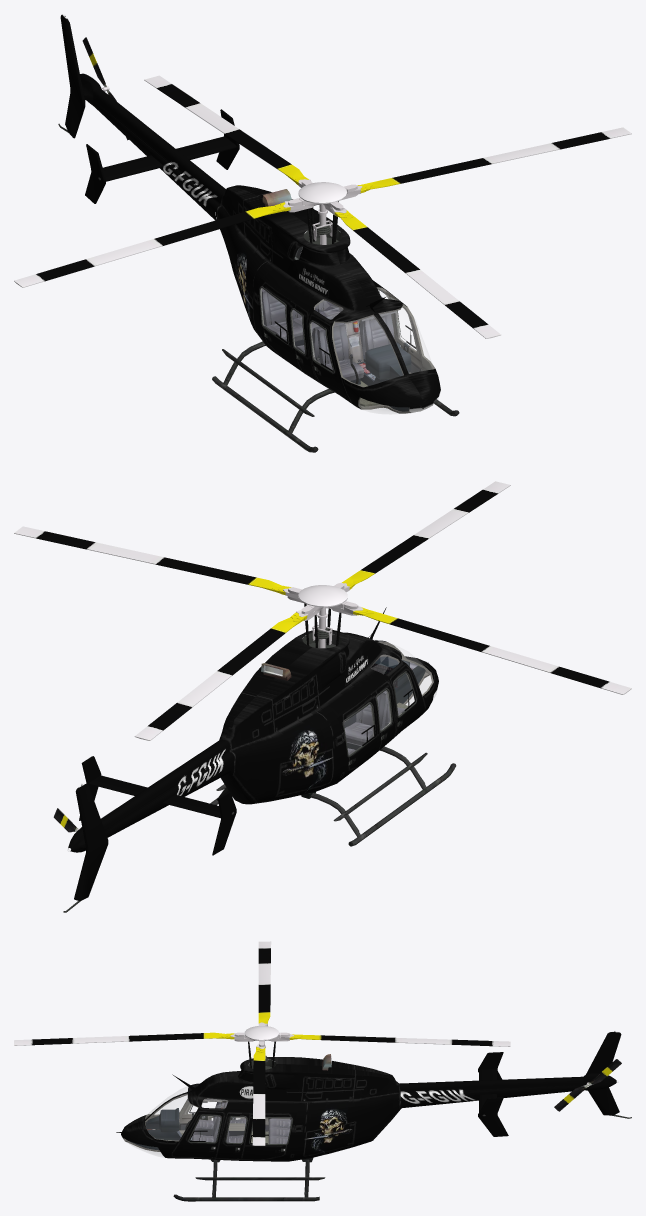
3 renders of one model, top to bottom at view 1: azimuth 30°, elevation 25°; view 2: azimuth 150°, elevation 25°; view 3: azimuth 270°, elevation 25°, orthographic. The views are drawn at different scales.
Parts seen in each view (by area): view 1: tailrotor; view 2: tailrotor; view 3: tailrotor.
Part boxes in pixels (box(x1,y1,x2,y2)): tailrotor: box(14, 14, 631, 452); tailrotor: box(14, 481, 631, 912); tailrotor: box(14, 941, 631, 1201).
Bounding box in the file's own units: 10.5 × 3.43 × 13.05.
5 materials, 4 textured.
